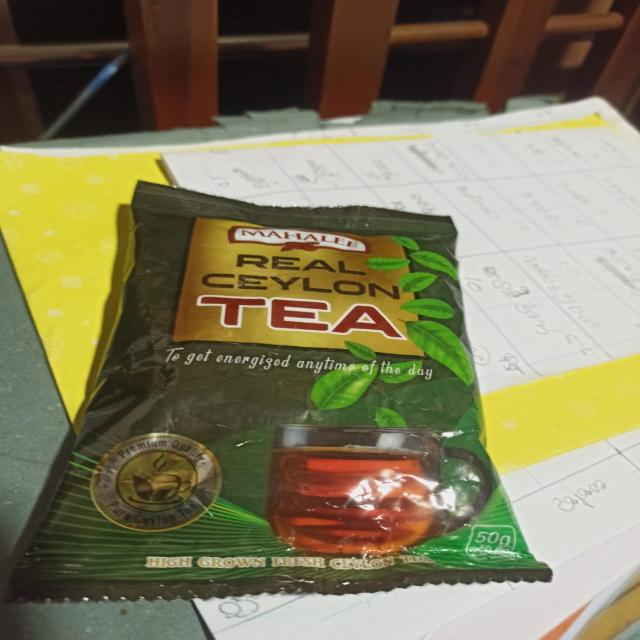Ceryloan TEA: (96, 165, 537, 616)
